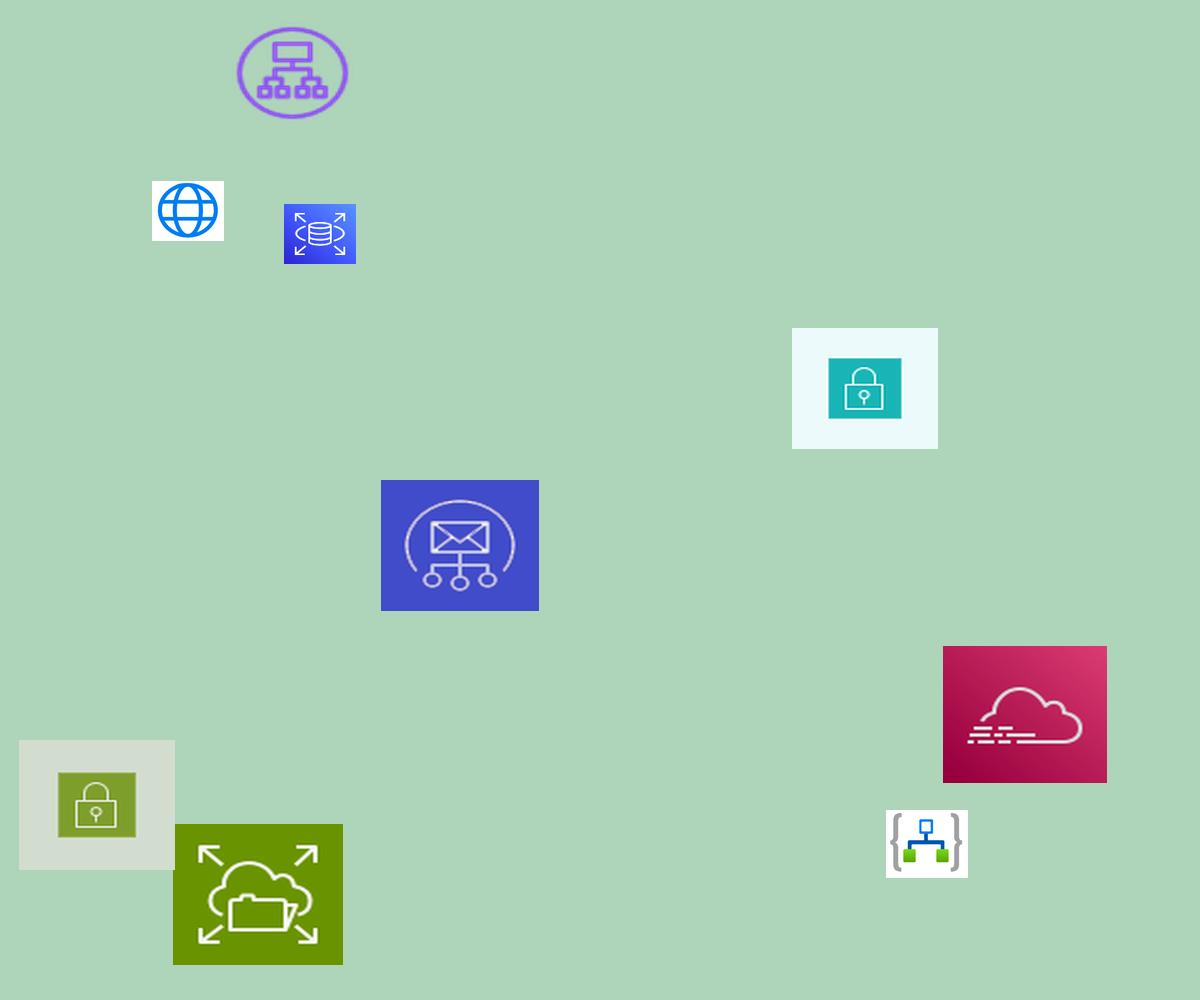AWS-CloudTrail: (943, 646, 1107, 783)
AWS-EFS: (173, 824, 343, 965)
AWS-Private-subnet: (792, 328, 938, 449)
AWS-Public-subnet: (19, 740, 175, 870)
AWS-RDS: (284, 204, 356, 264)
AWS-Res_Elastic-Load-Balancing_Application-Load-Balancer: (232, 23, 353, 123)
AWS-Simple-Email-Service: (381, 480, 539, 611)
Azure_http: (152, 181, 224, 241)
Azure_integration-204-Logic-Apps: (886, 810, 968, 878)
